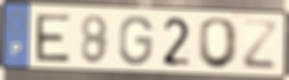2: (162, 15, 192, 69)
8: (79, 13, 110, 66)
E: (33, 13, 72, 65)
G: (117, 14, 155, 68)
O: (195, 16, 241, 71)
Z: (241, 18, 279, 72)
